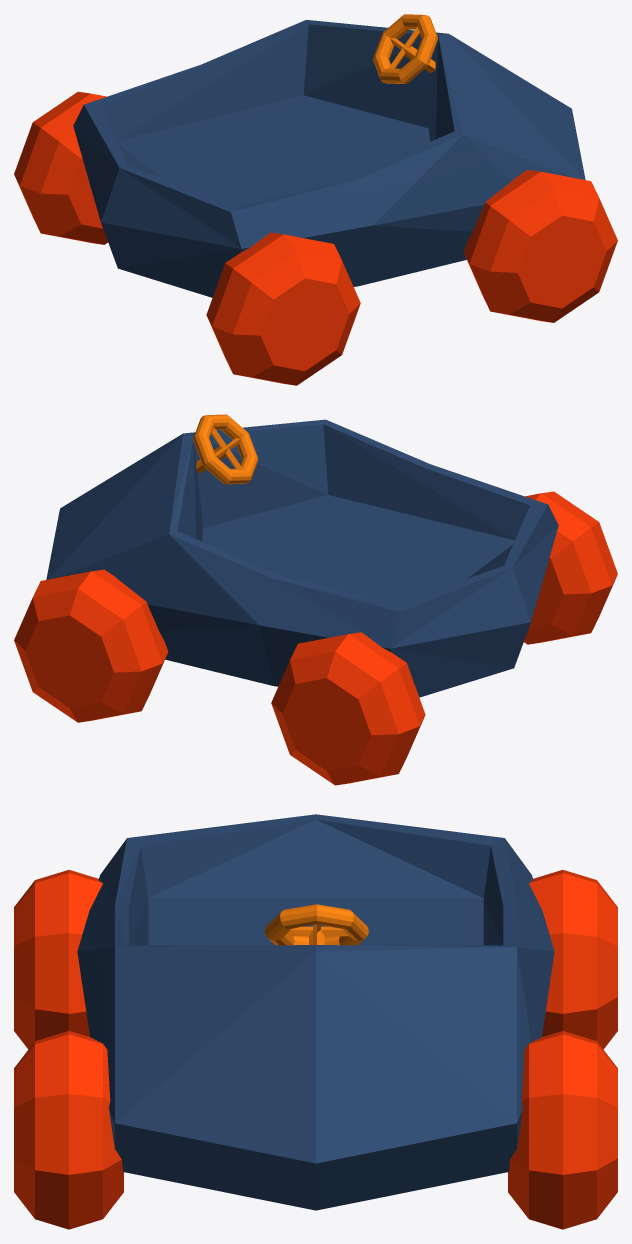
Rendered from car.fbx.
3 renders of one model, top to bottom at view 1: azimuth 30°, elevation 25°; view 2: azimuth 150°, elevation 25°; view 3: azimuth 270°, elevation 25°, orthographic. The views are drawn at different scales.
Visible parts, largest first — view 1: Torus; view 2: Torus; view 3: Torus.
Part boxes in pixels (x1,y1,x2,y2): Torus: (14,14,617,385); Torus: (14,414,617,785); Torus: (14,814,617,1229).
Bounding box in the file's own units: 190 × 92.75 × 165.
